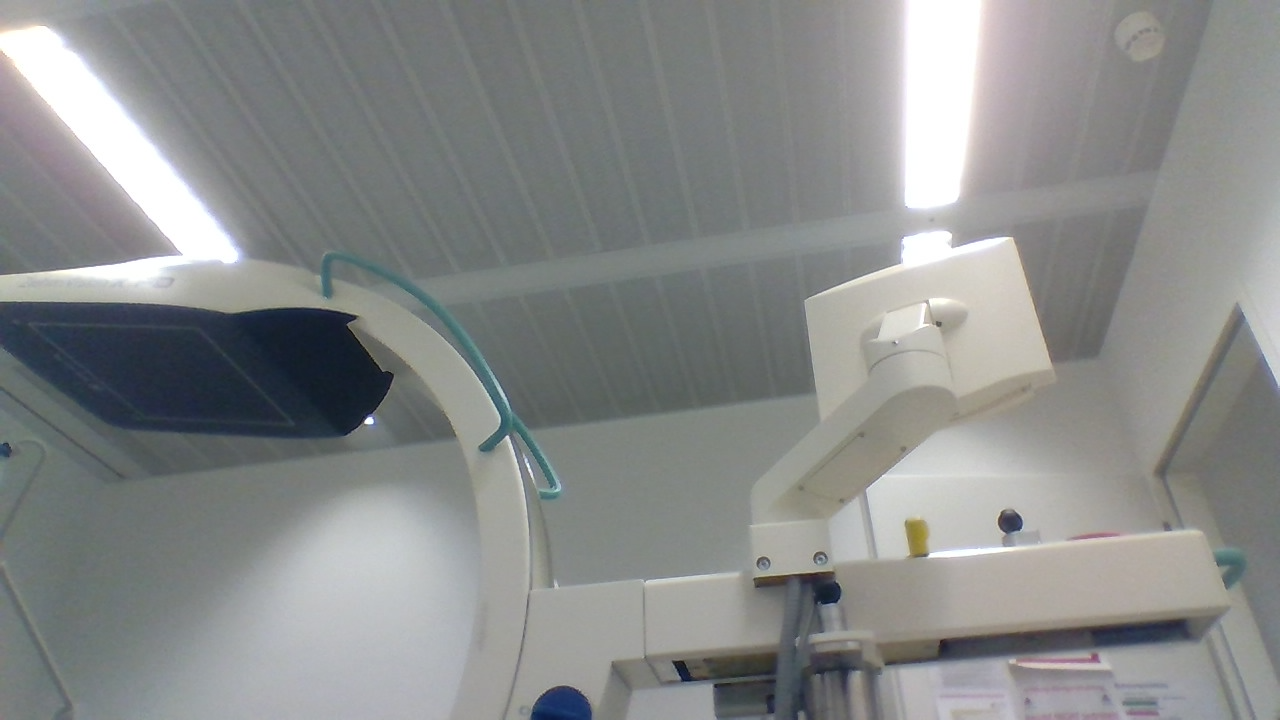carmSCREEN: (801, 233, 1061, 458)
carmUP: (0, 255, 397, 439)
